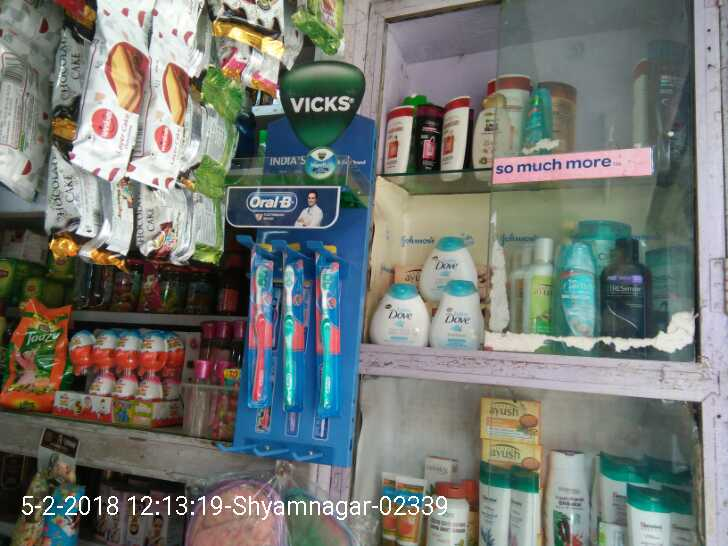oralb: (242, 242, 273, 414), (276, 241, 306, 415), (315, 248, 340, 417)
